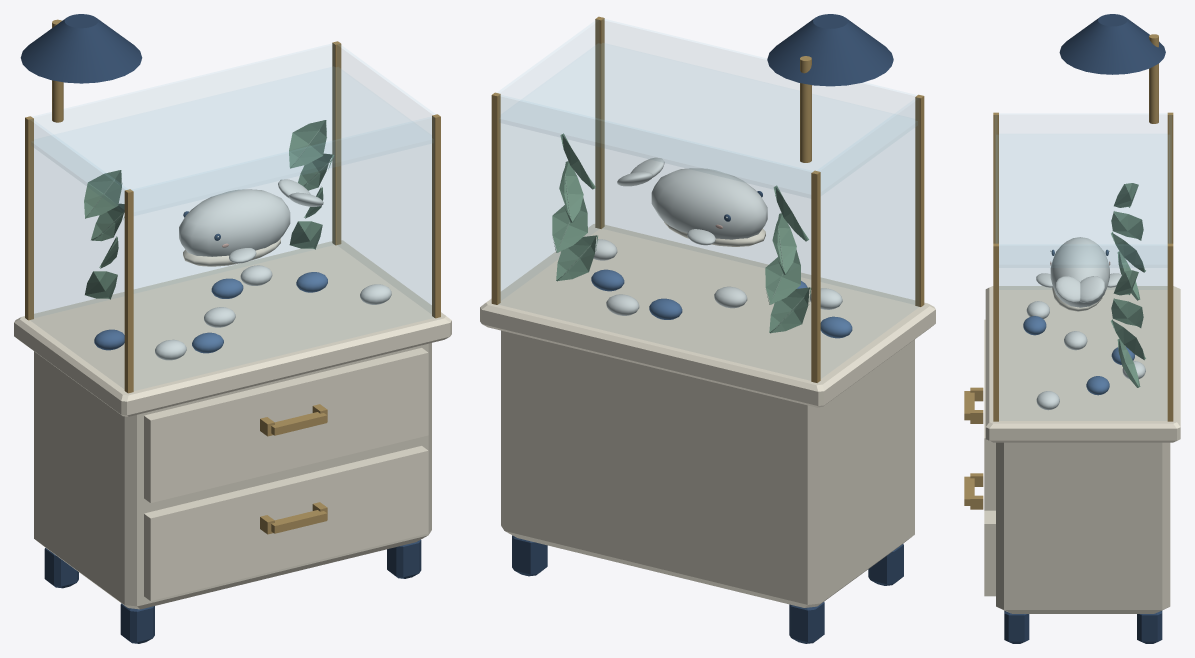
Rendered from v18_special_specimen_tank.glb.
3 views of the same model, side by side, from view 1: azimuth 30°, elevation 25°; view 2: azimuth 150°, elevation 25°; view 3: azimuth 270°, elevation 25° (orthographic). The views are drawn at different scales.
Visible parts, largest first — view 1: _MeshInstance3D_5117, _MeshInstance3D_5116, _MeshInstance3D_5118, _MeshInstance3D_5122, _MeshInstance3D_5173, _MeshInstance3D_5160, _MeshInstance3D_5128, _MeshInstance3D_5129, _MeshInstance3D_5127, _MeshInstance3D_5130, _MeshInstance3D_5158, _MeshInstance3D_5150 (+10 smaller); view 2: _MeshInstance3D_5116, _MeshInstance3D_5117, _MeshInstance3D_5160, _MeshInstance3D_5173, _MeshInstance3D_5127, _MeshInstance3D_5128, _MeshInstance3D_5129, _MeshInstance3D_5130, _MeshInstance3D_5144, _MeshInstance3D_5152, _MeshInstance3D_5112, _MeshInstance3D_5146 (+6 smaller); view 3: _MeshInstance3D_5116, _MeshInstance3D_5117, _MeshInstance3D_5173, _MeshInstance3D_5160, _MeshInstance3D_5129, _MeshInstance3D_5122, _MeshInstance3D_5130, _MeshInstance3D_5118, _MeshInstance3D_5127, _MeshInstance3D_5128, _MeshInstance3D_5114, _MeshInstance3D_5115 (+15 smaller).
Boxes of the visible parts, bbox=[...] form: _MeshInstance3D_5117: bbox=[14, 240, 451, 416]; _MeshInstance3D_5116: bbox=[34, 343, 431, 609]; _MeshInstance3D_5118: bbox=[144, 446, 428, 600]; _MeshInstance3D_5122: bbox=[144, 348, 428, 502]; _MeshInstance3D_5173: bbox=[20, 14, 142, 83]; _MeshInstance3D_5160: bbox=[179, 189, 290, 256]; _MeshInstance3D_5128: bbox=[124, 189, 133, 393]; _MeshInstance3D_5129: bbox=[332, 41, 341, 245]; _MeshInstance3D_5127: bbox=[25, 116, 33, 320]; _MeshInstance3D_5130: bbox=[432, 114, 440, 318]; _MeshInstance3D_5158: bbox=[289, 120, 326, 168]; _MeshInstance3D_5150: bbox=[84, 170, 122, 218]; _MeshInstance3D_5116: bbox=[501, 330, 914, 607]; _MeshInstance3D_5117: bbox=[480, 224, 935, 407]; _MeshInstance3D_5160: bbox=[651, 168, 767, 239]; _MeshInstance3D_5173: bbox=[767, 14, 893, 86]; _MeshInstance3D_5127: bbox=[811, 170, 820, 382]; _MeshInstance3D_5128: bbox=[915, 94, 924, 306]; _MeshInstance3D_5129: bbox=[491, 92, 500, 304]; _MeshInstance3D_5130: bbox=[595, 16, 604, 228]; _MeshInstance3D_5144: bbox=[769, 287, 811, 333]; _MeshInstance3D_5152: bbox=[556, 235, 597, 281]; _MeshInstance3D_5112: bbox=[789, 602, 824, 643]; _MeshInstance3D_5146: bbox=[765, 249, 800, 304]; _MeshInstance3D_5116: bbox=[996, 442, 1170, 613]; _MeshInstance3D_5117: bbox=[985, 286, 1180, 442]; _MeshInstance3D_5173: bbox=[1059, 14, 1165, 74]; _MeshInstance3D_5160: bbox=[1050, 237, 1109, 307]; _MeshInstance3D_5129: bbox=[1167, 243, 1173, 421]; _MeshInstance3D_5122: bbox=[984, 319, 995, 510]; _MeshInstance3D_5130: bbox=[993, 243, 998, 421]; _MeshInstance3D_5118: bbox=[984, 510, 995, 596]; _MeshInstance3D_5127: bbox=[1167, 112, 1173, 243]; _MeshInstance3D_5128: bbox=[993, 112, 998, 243]; _MeshInstance3D_5114: bbox=[1137, 611, 1162, 643]; _MeshInstance3D_5115: bbox=[1004, 610, 1029, 643].
Bounding box in the file's own units: 1.28 × 2 × 0.7751.
